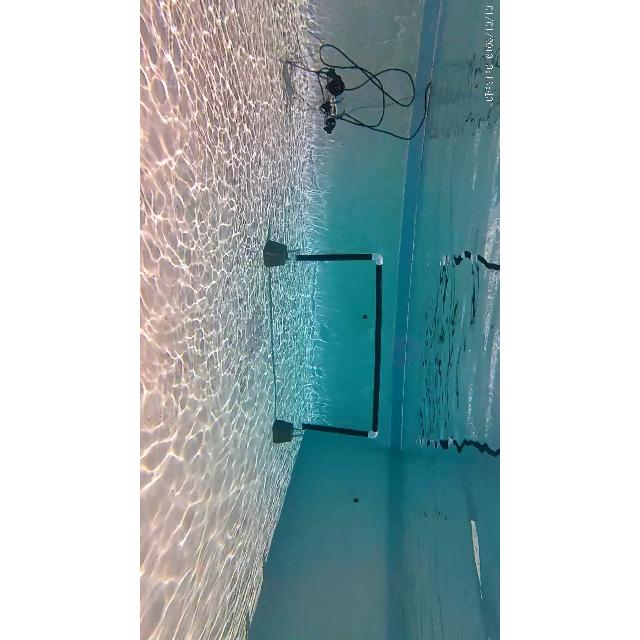prequal gate: (291, 255, 384, 440)
prequal gate leg l: (261, 234, 389, 274)
prequal gate leg r: (269, 413, 385, 447)
